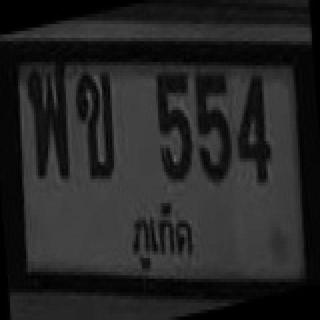A02: (77, 62, 123, 199)
A31: (24, 58, 76, 193)
N04: (236, 60, 279, 196)
N05: (152, 62, 198, 203), (193, 63, 238, 203)
P48: (118, 193, 210, 280)
